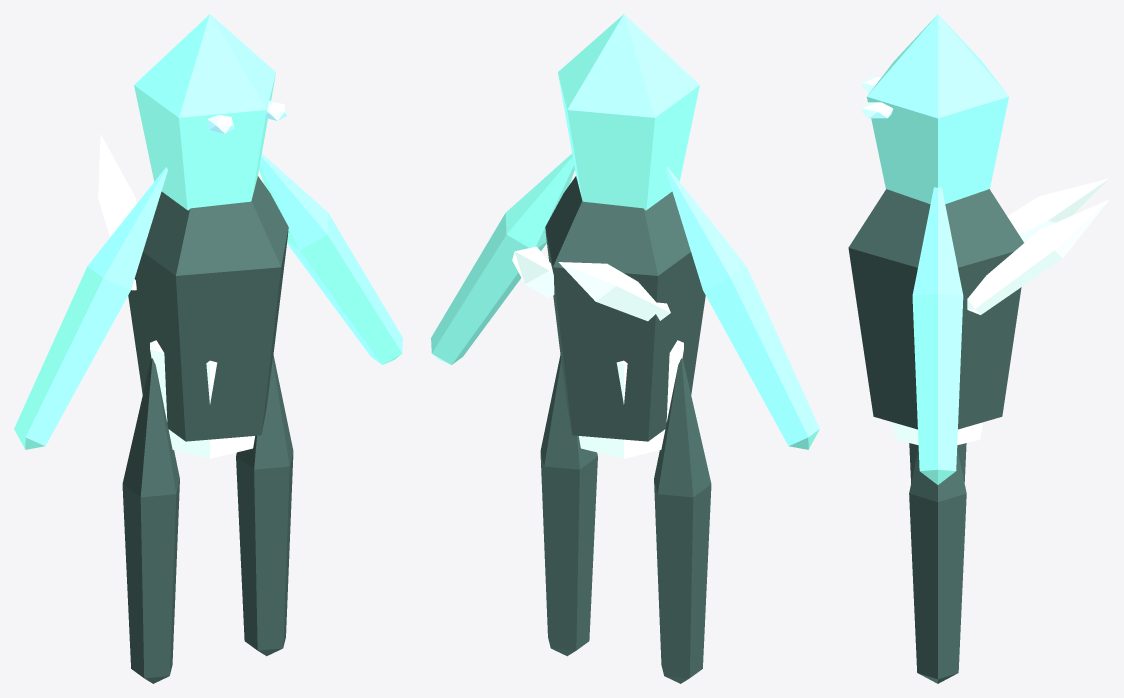
The model's file is deep-fracture-creature-Shardling-spirit.glb.
The picture shows the model from 3 angles, left to right: view 1: azimuth 30°, elevation 25°; view 2: azimuth 150°, elevation 25°; view 3: azimuth 270°, elevation 25°; orthographic projection. The views are drawn at different scales.
Parts seen in each view (by area): view 1: torso, head, runner-l, runner-r, arm-l, arm-r, locomotion-core, back-spine-left; view 2: torso, head, runner-l, runner-r, arm-l, arm-r, back-spine-left, locomotion-core, back-spine-right; view 3: torso, head, arm-r, runner-r, back-spine-right, back-spine-left, locomotion-core, runner-l, inset-eye-1.
Part boxes in pixels (left/top/right/bottom): torso: left=128, top=176, right=288, bottom=441; head: left=134, top=14, right=275, bottom=210; runner-l: left=122, top=358, right=179, bottom=683; runner-r: left=236, top=355, right=293, bottom=656; arm-l: left=14, top=167, right=167, bottom=449; arm-r: left=259, top=154, right=402, bottom=364; locomotion-core: left=150, top=340, right=254, bottom=458; back-spine-left: left=98, top=134, right=136, bottom=290; torso: left=545, top=176, right=705, bottom=441; head: left=558, top=14, right=699, bottom=210; runner-l: left=654, top=358, right=711, bottom=683; runner-r: left=540, top=355, right=597, bottom=656; arm-l: left=666, top=167, right=819, bottom=449; arm-r: left=431, top=154, right=574, bottom=364; back-spine-left: left=558, top=262, right=670, bottom=321; locomotion-core: left=579, top=340, right=683, bottom=458; back-spine-right: left=512, top=246, right=554, bottom=297; torso: left=848, top=189, right=1023, bottom=429; head: left=867, top=14, right=1008, bottom=204; arm-r: left=912, top=187, right=963, bottom=484; runner-r: left=909, top=448, right=966, bottom=683; back-spine-right: left=967, top=200, right=1108, bottom=314; back-spine-left: left=1007, top=178, right=1108, bottom=242; locomotion-core: left=892, top=422, right=982, bottom=445; runner-l: left=909, top=443, right=966, bottom=483; inset-eye-1: left=862, top=102, right=893, bottom=118.
Size of the model in its own units: 1.22 by 1.99 by 0.7324.
